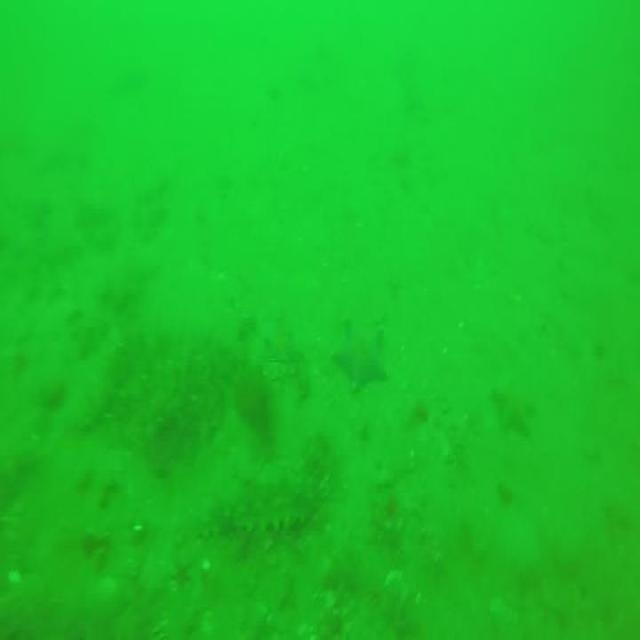holothurian: (195, 476, 309, 531)
starfish: (331, 321, 388, 392), (496, 381, 535, 438)
